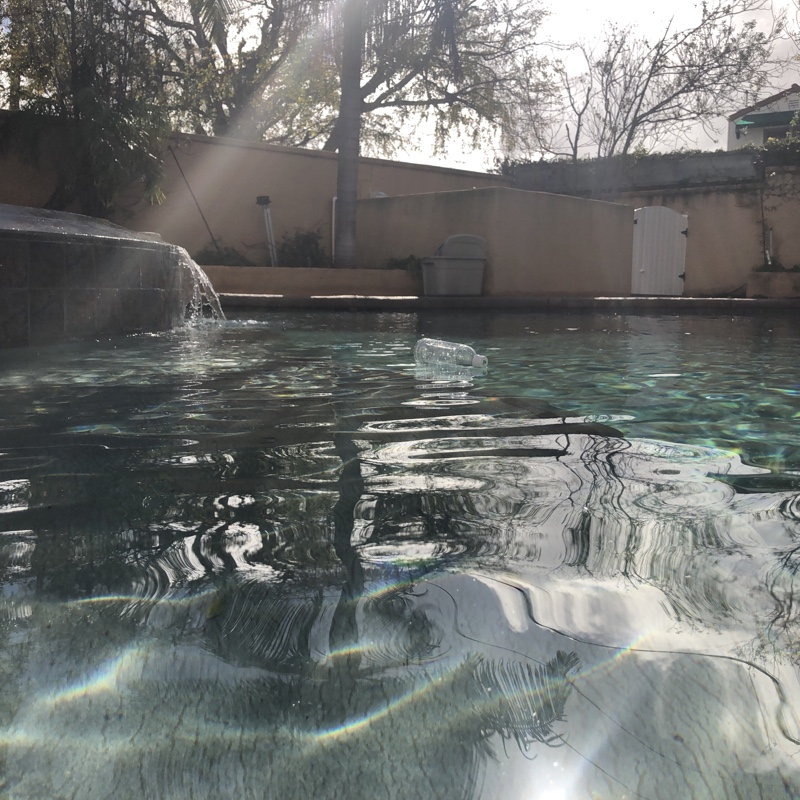Plastic Bottle: (410, 333, 492, 375)
